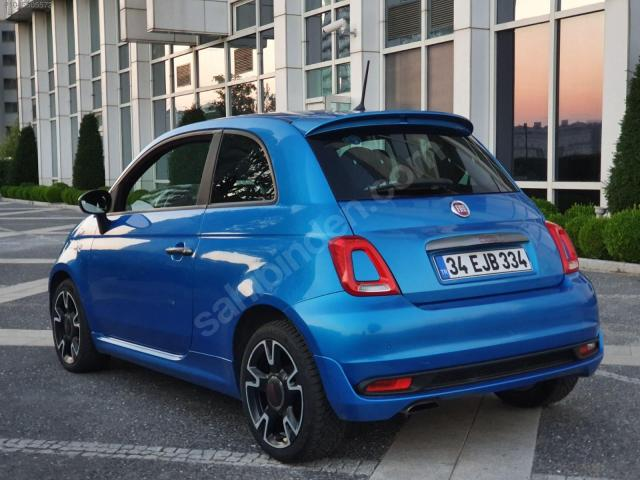plaka: (432, 247, 533, 281)
